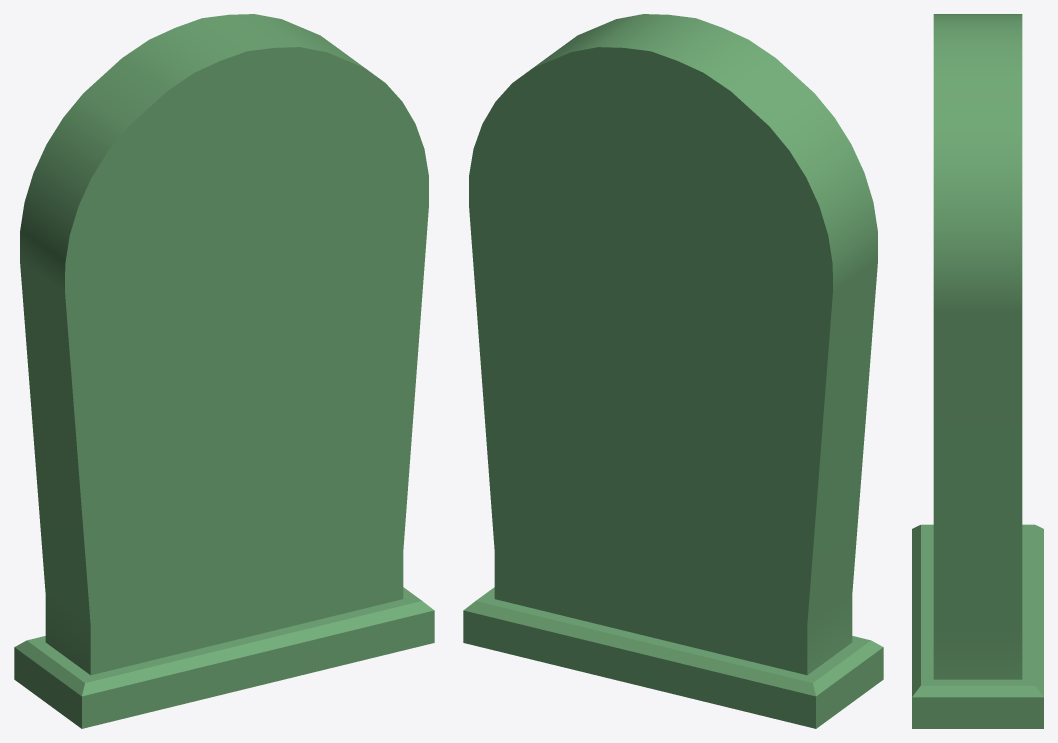
The model's file is MOD_TombStone5.fbx.
3 views of the same model, side by side, from view 1: azimuth 30°, elevation 25°; view 2: azimuth 150°, elevation 25°; view 3: azimuth 270°, elevation 25° (orthographic). The views are drawn at different scales.
Visible parts, largest first — view 1: TombStone_5; view 2: TombStone_5; view 3: TombStone_5.
Part boxes in pixels (<box>): TombStone_5: <box>14,14,434,728</box>; TombStone_5: <box>463,14,883,728</box>; TombStone_5: <box>912,14,1043,728</box>.
Bounding box in the file's own units: 270 × 444 × 86.47.
